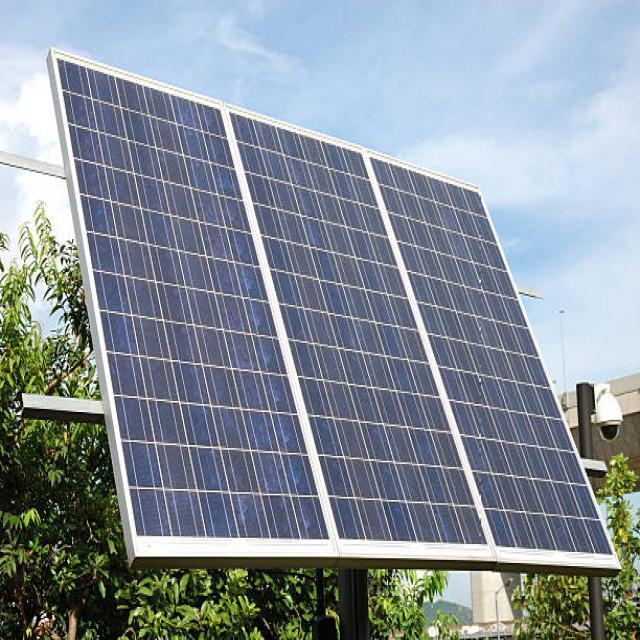no faulty: (51, 55, 333, 560), (234, 108, 494, 558), (373, 153, 618, 568)
